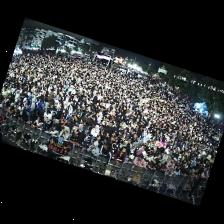person: (99, 144, 111, 169), (113, 146, 125, 165), (73, 124, 83, 143), (42, 109, 51, 130), (132, 154, 145, 168), (68, 131, 80, 146), (86, 142, 98, 156), (46, 124, 60, 136), (110, 138, 120, 154), (61, 115, 71, 131), (87, 116, 97, 131), (58, 126, 68, 140), (90, 125, 99, 140), (118, 134, 127, 149), (30, 116, 41, 128), (146, 159, 157, 171), (81, 137, 91, 150), (52, 105, 59, 123), (143, 152, 152, 165), (127, 142, 136, 155), (24, 100, 30, 119), (146, 146, 157, 156), (18, 110, 27, 122), (92, 135, 101, 147), (172, 165, 181, 177), (59, 109, 66, 124), (165, 158, 175, 168), (179, 167, 190, 176), (101, 133, 110, 144), (143, 128, 150, 142), (136, 135, 143, 148), (136, 145, 145, 155), (159, 152, 167, 163), (147, 139, 156, 148), (7, 103, 14, 114), (164, 167, 172, 176), (199, 170, 207, 179), (124, 155, 133, 163), (158, 138, 165, 148), (82, 130, 89, 140), (18, 101, 23, 114), (182, 160, 190, 168), (175, 157, 184, 164), (81, 121, 87, 131), (1, 102, 7, 111), (152, 155, 161, 161), (193, 169, 198, 179), (189, 169, 193, 180), (175, 161, 183, 165), (0, 101, 4, 107)
